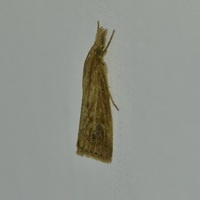insect: (77, 21, 118, 162)
